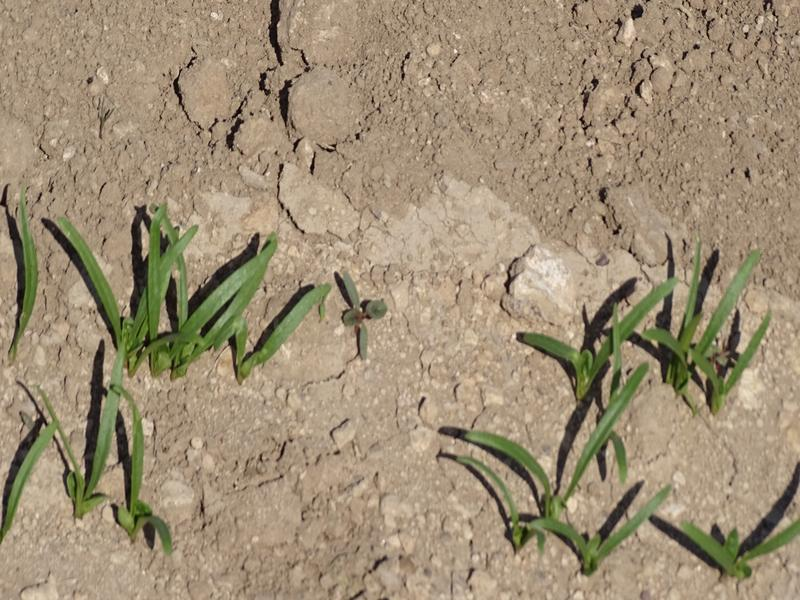Espinaca: (475, 259, 787, 586), (1, 194, 324, 355), (5, 366, 178, 555)
